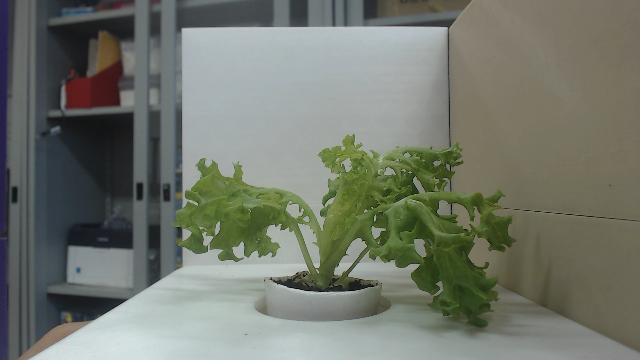Harvest Stage: (174, 132, 518, 330)
